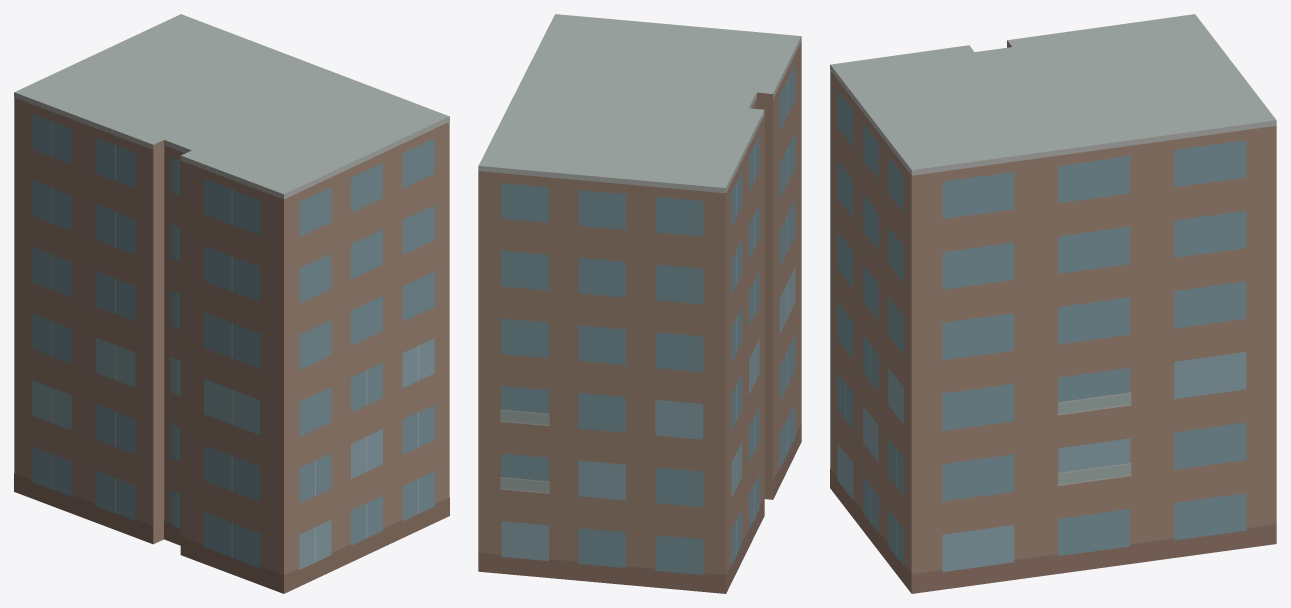
File: survey-upis-32999526.glb
The picture shows the model from 3 angles, left to right: view 1: azimuth 30°, elevation 25°; view 2: azimuth 150°, elevation 25°; view 3: azimuth 270°, elevation 25°; orthographic projection. The views are drawn at different scales.
Parts seen in each view (by area): view 1: survey-upis-32999526.tmp; view 2: survey-upis-32999526.tmp; view 3: survey-upis-32999526.tmp.
Part boxes in pixels (<box>): survey-upis-32999526.tmp: <box>14,14,449,593</box>; survey-upis-32999526.tmp: <box>478,14,801,593</box>; survey-upis-32999526.tmp: <box>830,14,1276,593</box>.
Bounding box in the file's own units: 14.96 × 18.9 × 18.06.
